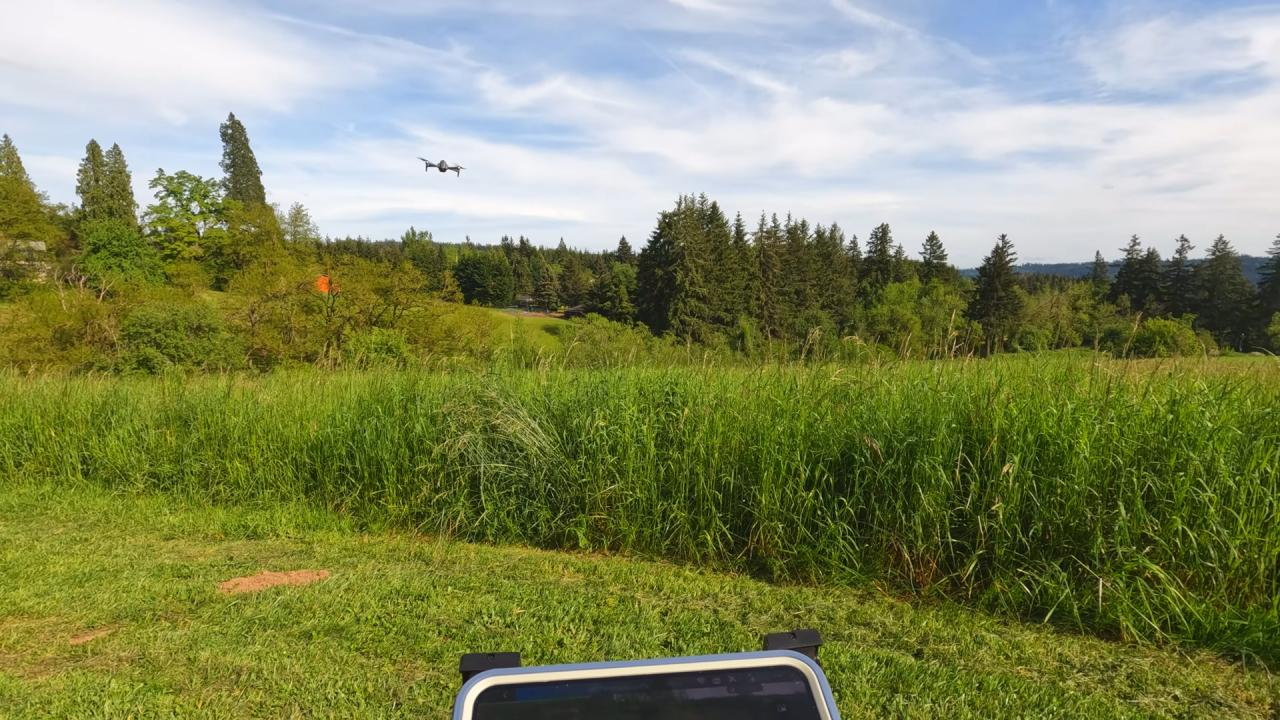Drone: (401, 146, 477, 189)
